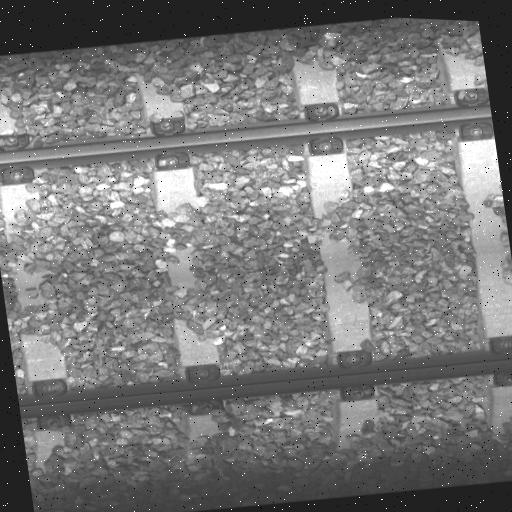clips: (144, 115, 192, 175), (179, 361, 229, 418), (298, 100, 344, 161), (26, 377, 71, 434), (448, 86, 490, 144), (332, 347, 372, 403), (0, 131, 37, 190), (486, 332, 512, 388)
sleepers: (278, 51, 394, 453), (132, 67, 239, 468), (0, 82, 83, 481), (434, 38, 512, 437)
